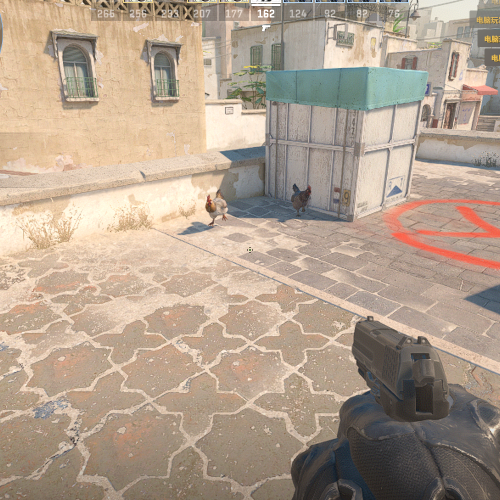chicken: (205, 191, 230, 228), (290, 183, 311, 216)
